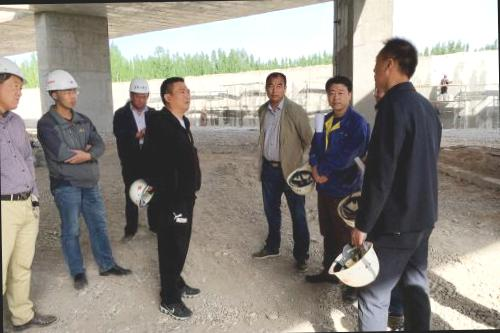no_helmet: (370, 34, 423, 96), (157, 73, 195, 116), (322, 72, 355, 115), (261, 68, 289, 104)
